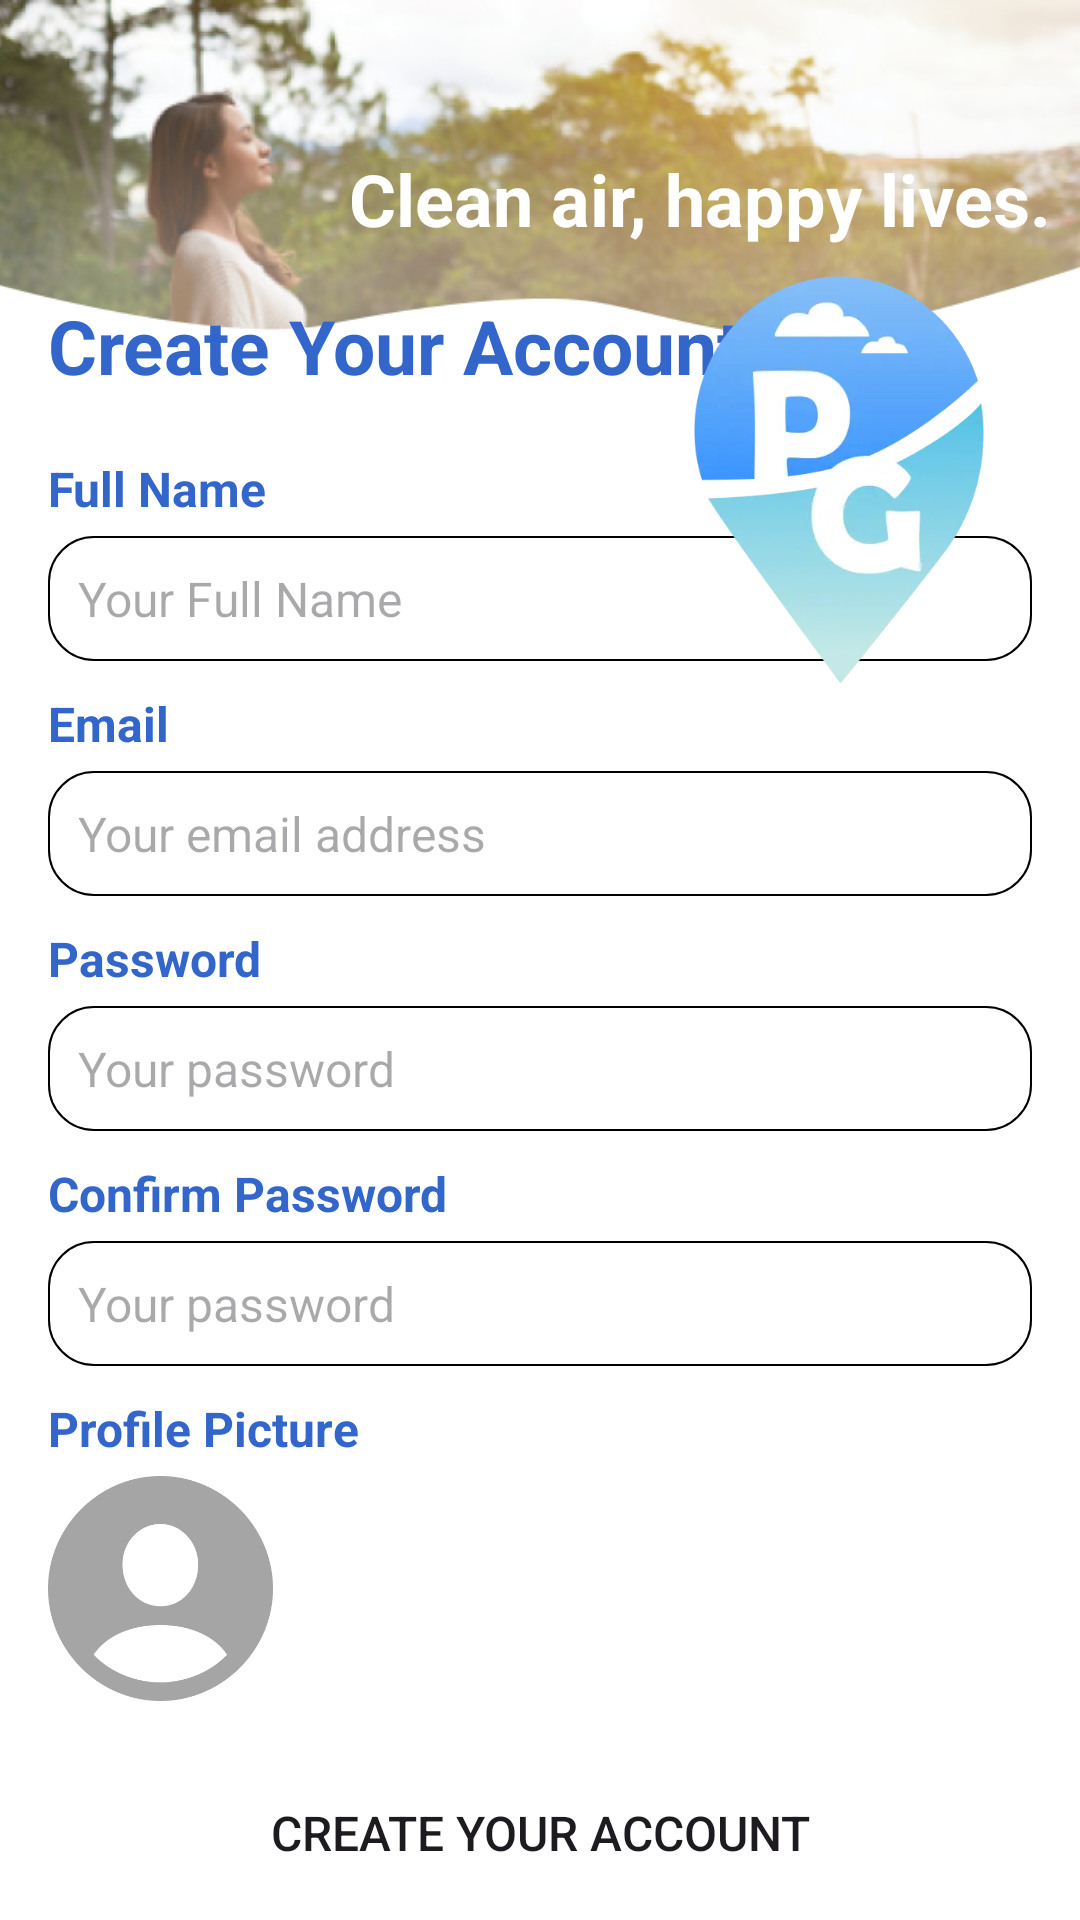

Screen size 1080*1920. Icon name, then its box in pixels as bbox=[x1, y1, x2, y2]:
person circle: bbox=[48, 1476, 273, 1701]
